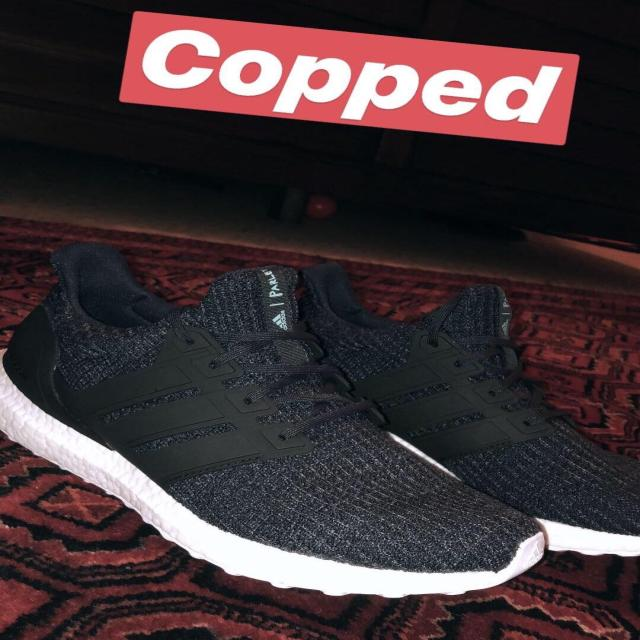shoe: (1, 218, 517, 620), (281, 267, 640, 637)
